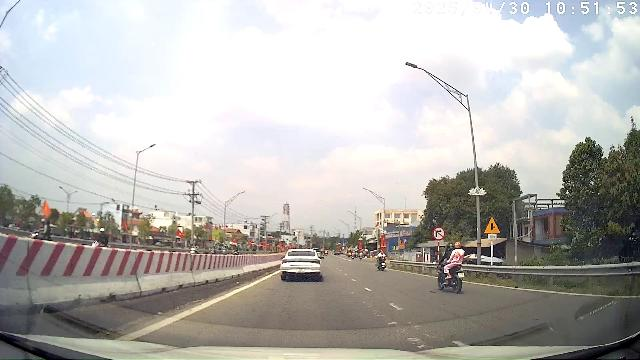123b-cam-re-phai: (432, 226, 446, 241)
